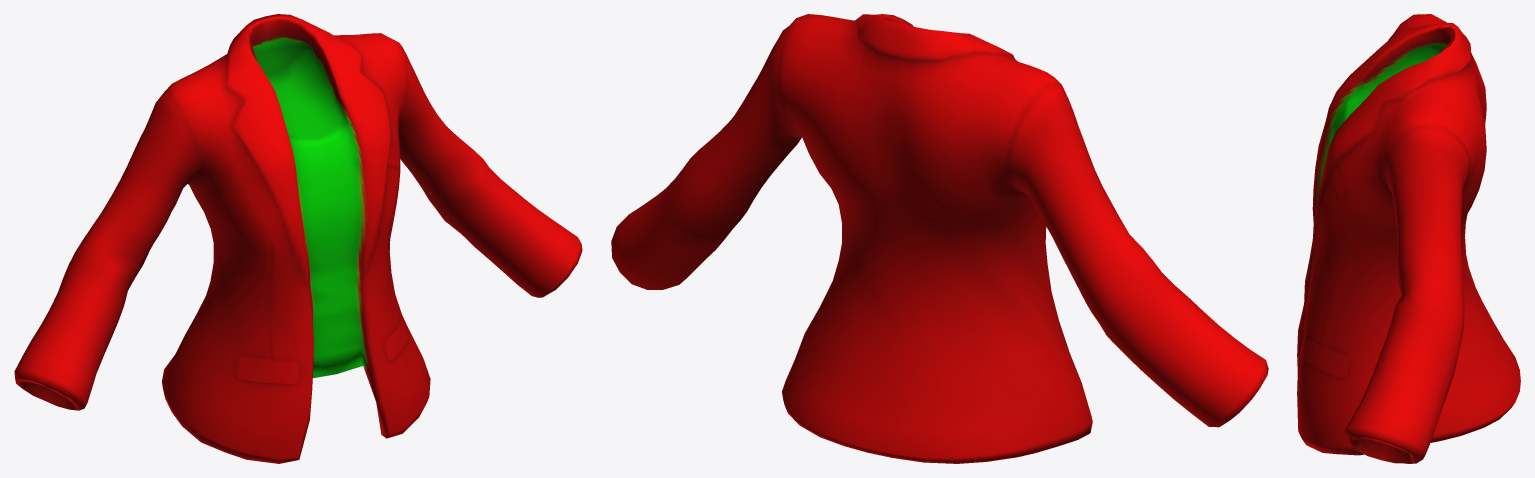
File: Top_CasualJacket.obj
3 views of the same model, side by side, from view 1: azimuth 30°, elevation 25°; view 2: azimuth 150°, elevation 25°; view 3: azimuth 270°, elevation 25° (orthographic). The views are drawn at different scales.
Parts seen in each view (by area): view 1: Top_CasualJacket_0; view 2: Top_CasualJacket_0; view 3: Top_CasualJacket_0.
Boxes of the visible parts, x1,y1,x2,y2 form: Top_CasualJacket_0: (14, 14, 582, 463); Top_CasualJacket_0: (611, 14, 1268, 463); Top_CasualJacket_0: (1297, 14, 1520, 463).
Bounding box in the file's own units: 0.9 × 0.584 × 0.3097.
Materials: 1 (1 with a texture image).
